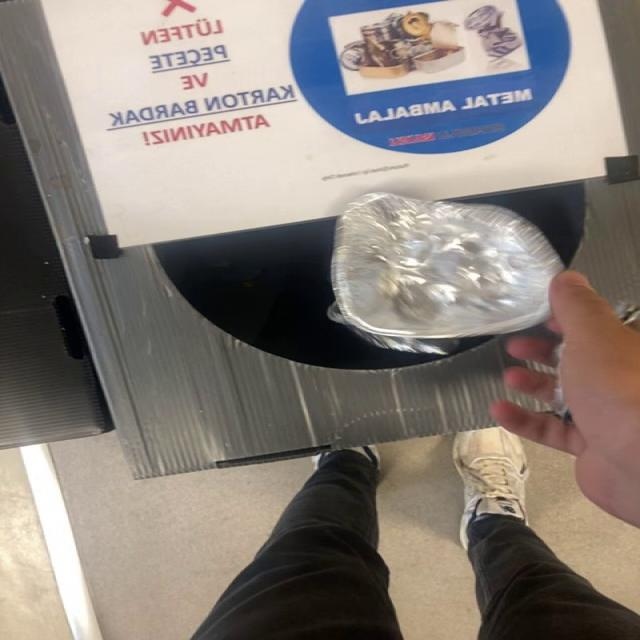metal: (328, 193, 564, 354)
